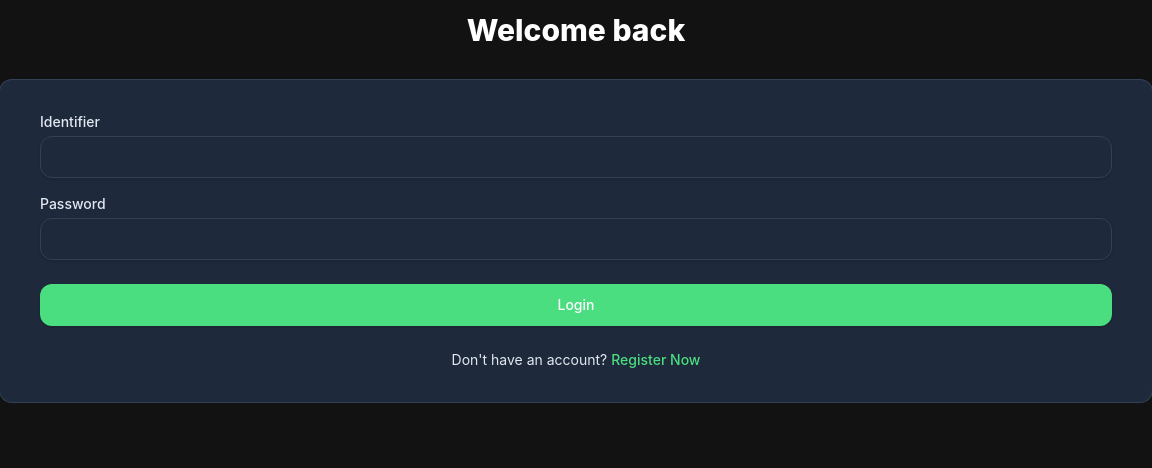
Test case: Login Component › Client Form Validation › should not submit form when fields are invalid
Click the button "Login".
click(576, 305)  # box [40,284,1112,326]
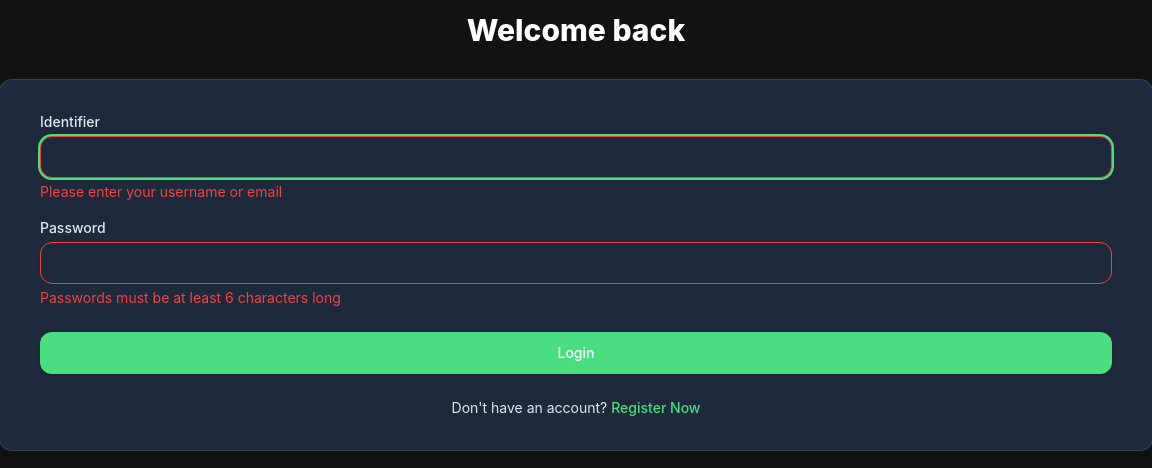
Now the text "Please enter your username or email" is shown, box [40,183,282,200]
